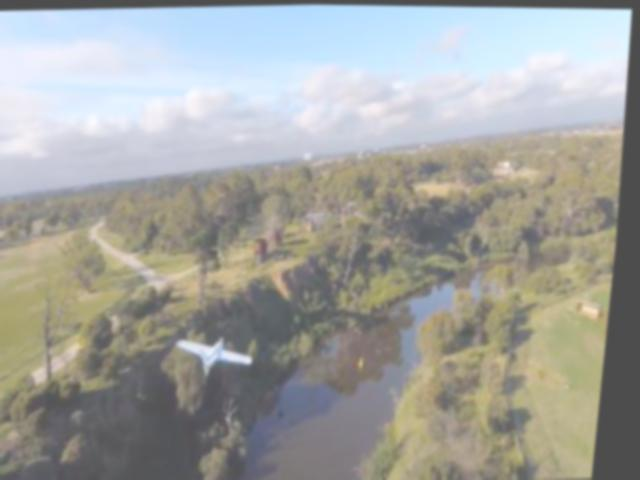uav: (181, 334, 264, 377)
